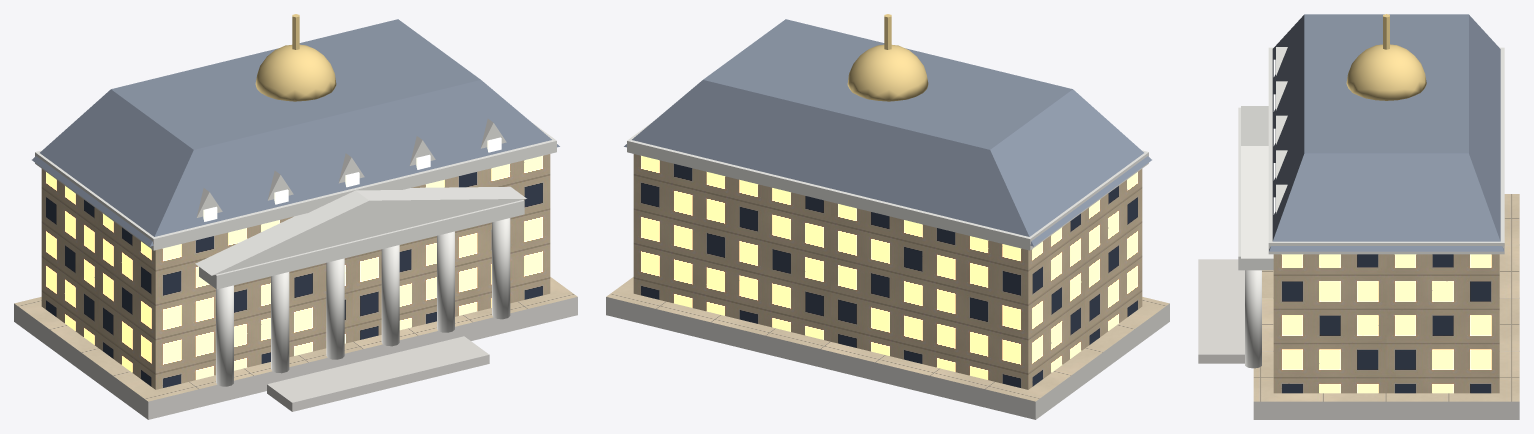
The model's file is grand_boulevard_palace.glb.
The picture shows the model from 3 angles, left to right: view 1: azimuth 30°, elevation 25°; view 2: azimuth 150°, elevation 25°; view 3: azimuth 270°, elevation 25°; orthographic projection.
Visible parts, largest first — view 1: grand_boulevard_palace__roof_slate, grand_boulevard_palace__facade_stone, grand_boulevard_palace__white, grand_boulevard_palace__curb, grand_boulevard_palace__paving_warm, grand_boulevard_palace__gold, grand_boulevard_palace__window_glow; view 2: grand_boulevard_palace__facade_stone, grand_boulevard_palace__roof_slate, grand_boulevard_palace__curb, grand_boulevard_palace__paving_warm, grand_boulevard_palace__white, grand_boulevard_palace__gold; view 3: grand_boulevard_palace__roof_slate, grand_boulevard_palace__facade_stone, grand_boulevard_palace__white, grand_boulevard_palace__curb, grand_boulevard_palace__paving_warm, grand_boulevard_palace__gold.
Part boxes in pixels (x1,y1,x2,y2): grand_boulevard_palace__roof_slate: [32, 19, 559, 246]; grand_boulevard_palace__facade_stone: [41, 154, 550, 389]; grand_boulevard_palace__white: [35, 118, 556, 386]; grand_boulevard_palace__curb: [14, 297, 577, 419]; grand_boulevard_palace__paving_warm: [14, 277, 577, 401]; grand_boulevard_palace__gold: [255, 14, 336, 101]; grand_boulevard_palace__window_glow: [203, 137, 501, 221]; grand_boulevard_palace__facade_stone: [633, 154, 1142, 389]; grand_boulevard_palace__roof_slate: [624, 19, 1151, 246]; grand_boulevard_palace__curb: [606, 297, 1169, 419]; grand_boulevard_palace__paving_warm: [606, 277, 1169, 401]; grand_boulevard_palace__white: [627, 122, 1148, 250]; grand_boulevard_palace__gold: [847, 14, 928, 101]; grand_boulevard_palace__roof_slate: [1269, 14, 1503, 251]; grand_boulevard_palace__facade_stone: [1273, 254, 1499, 393]; grand_boulevard_palace__white: [1238, 47, 1504, 368]; grand_boulevard_palace__curb: [1198, 259, 1519, 419]; grand_boulevard_palace__paving_warm: [1253, 194, 1519, 401]; grand_boulevard_palace__gold: [1346, 14, 1426, 100].
Size of the model in its own units: 0.98 by 0.66 by 0.64.
Materials: 8 (3 with a texture image).
